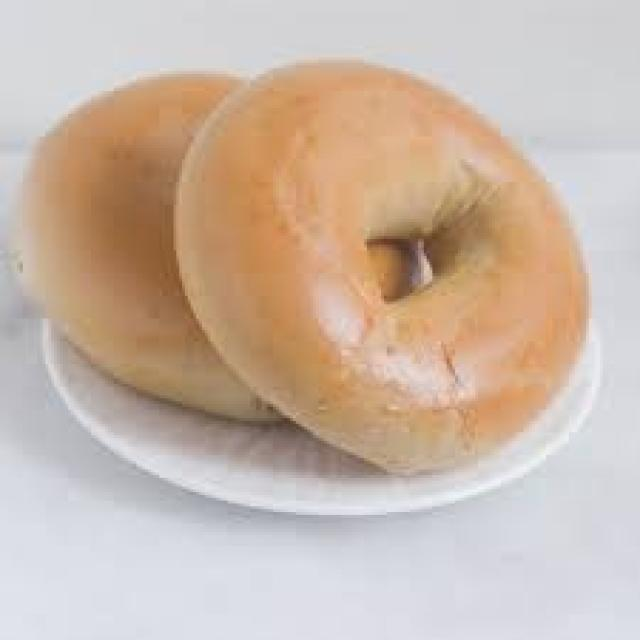Bagel: (175, 64, 584, 471)
